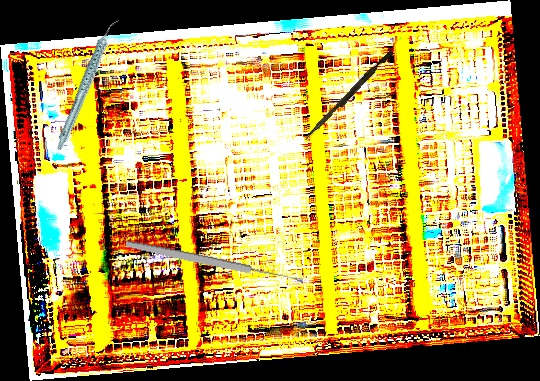Handpiece: (31, 16, 145, 153)
Pusher: (303, 48, 394, 144)
Surgical Spoon: (124, 238, 305, 287)
